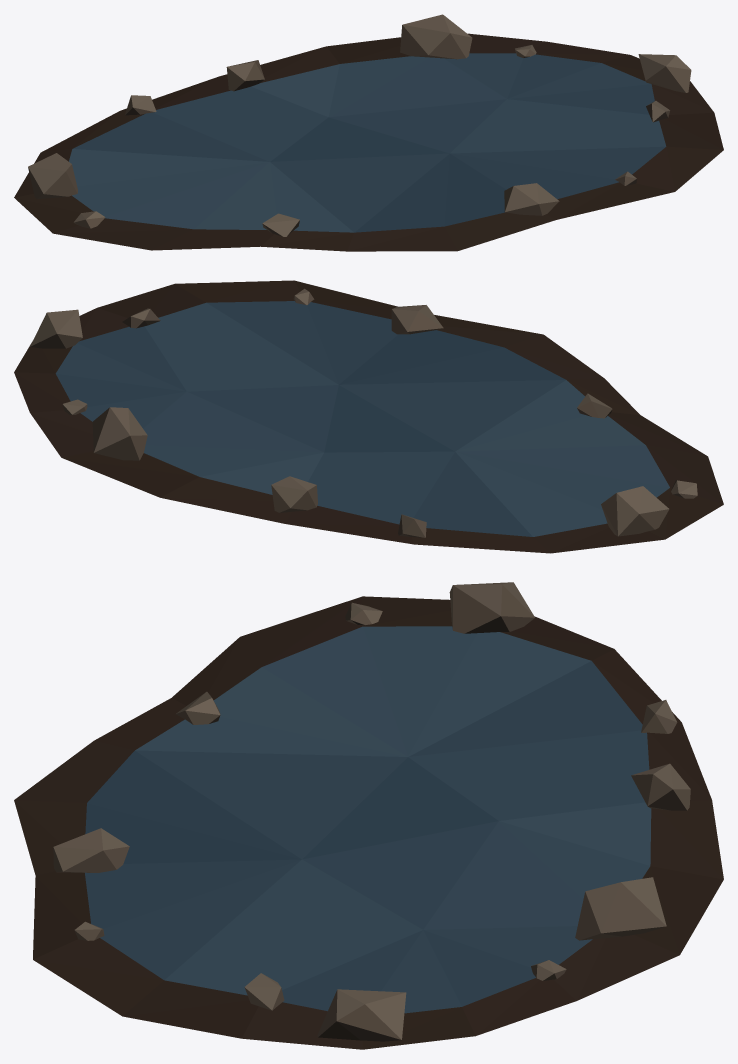
File: tl_env_puddle_v01.glb
3 views of the same model, one above another, from view 1: azimuth 30°, elevation 25°; view 2: azimuth 150°, elevation 25°; view 3: azimuth 270°, elevation 25° (orthographic). The views are drawn at different scales.
Parts seen in each view (by area): view 1: water, tl_env_puddle_v01; view 2: water, tl_env_puddle_v01; view 3: water, tl_env_puddle_v01.
Boxes of the visible parts, x1=… form: water: x1=69, y1=53, x2=666, y2=232; tl_env_puddle_v01: x1=14, y1=14, x2=723, y2=251; water: x1=55, y1=301, x2=669, y2=536; tl_env_puddle_v01: x1=14, y1=280, x2=723, y2=553; water: x1=85, y1=626, x2=651, y2=1013; tl_env_puddle_v01: x1=14, y1=582, x2=723, y2=1049.
Bounding box in the file's own units: 7.08 × 0.4156 × 4.69.
